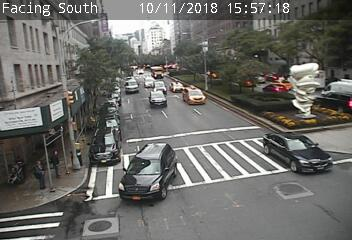car: (119, 143, 176, 202), (264, 132, 332, 173), (182, 87, 205, 104), (149, 90, 166, 107), (153, 81, 166, 94), (168, 82, 184, 92), (144, 77, 156, 87)
